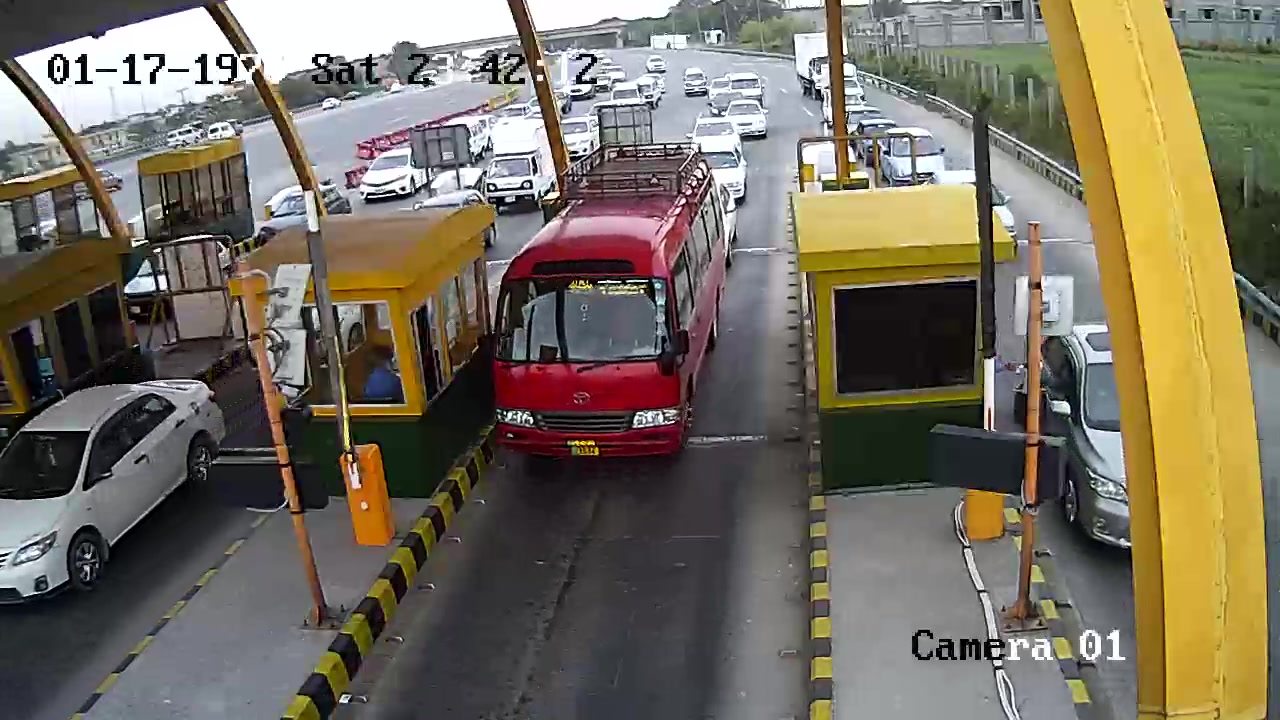F3: (484, 137, 731, 477)
